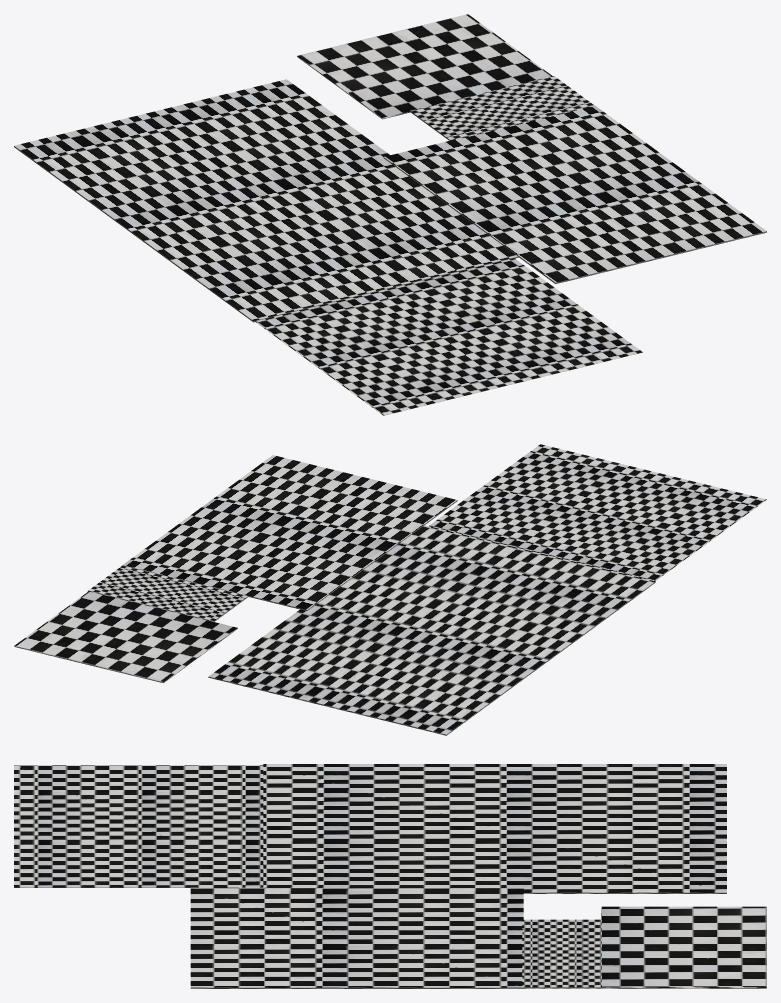
Rendered from Piso_Casa.obj.
3 views of the same model, one above another, from view 1: azimuth 30°, elevation 25°; view 2: azimuth 150°, elevation 25°; view 3: azimuth 270°, elevation 25° (orthographic). The views are drawn at different scales.
Parts seen in each view (by area): view 1: polySurface70; view 2: polySurface70; view 3: polySurface70.
Boxes of the visible parts, x1=… form: polySurface70: x1=14, y1=14, x2=766, y2=415; polySurface70: x1=14, y1=444, x2=766, y2=735; polySurface70: x1=14, y1=764, x2=766, y2=988.
Size of the model in its own units: 5.6 by 0.0292 by 7.92.
1 material, 1 textured.
